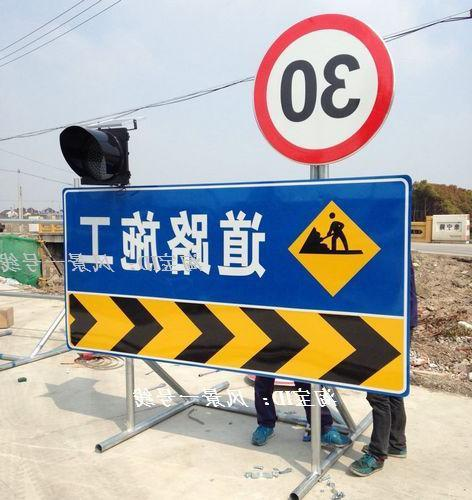sign: (62, 177, 410, 392)
